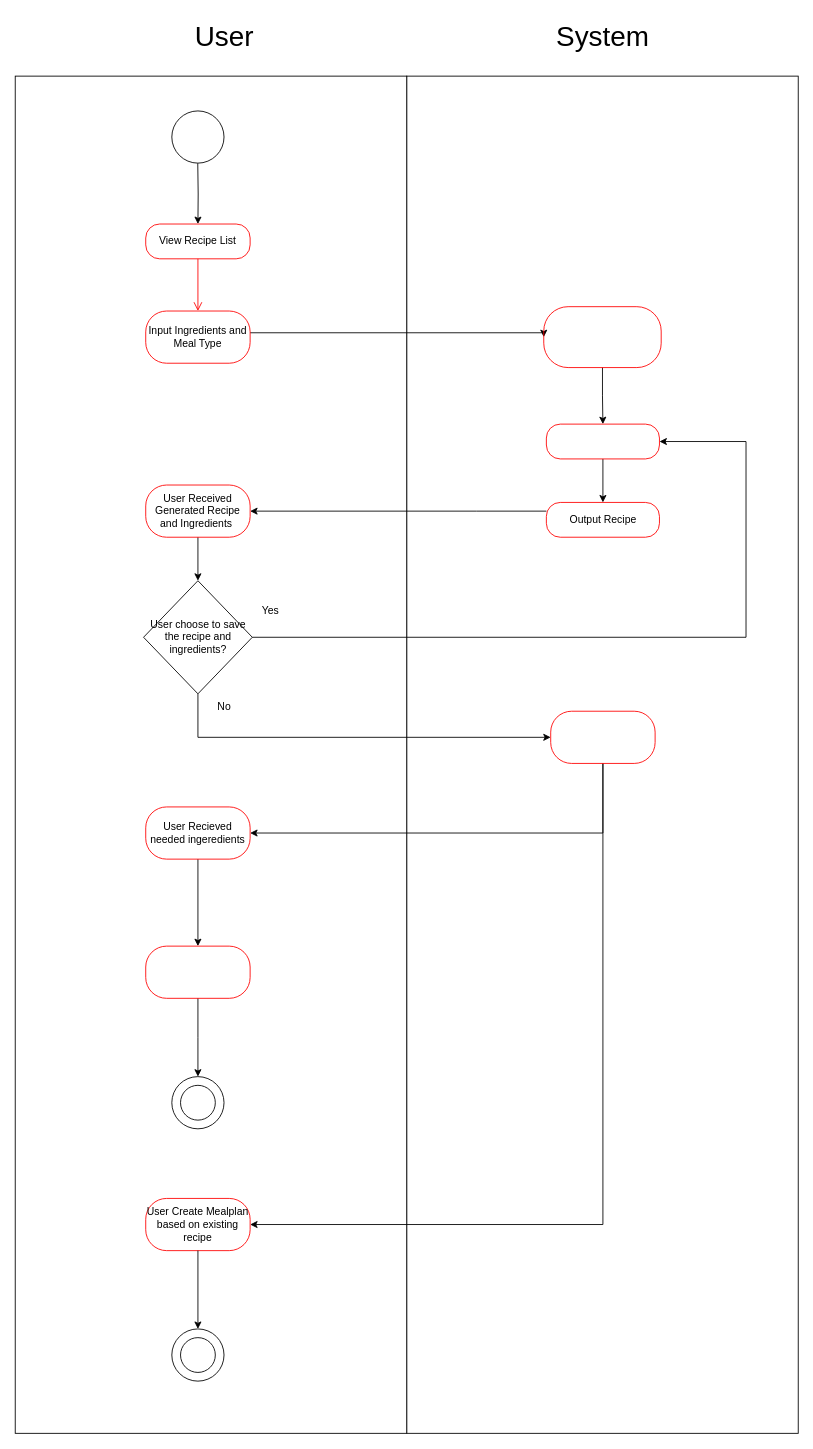
Some shapes in this 813 by 1449 pixel diagram are drawn without their labels. Here are the shapes that lost their labels. From the top down, the centre of each, then its label:
pixel 602 337: Receive Input Ingredients and Meal Type
pixel 602 441: Proceed Input with Systematic Prompt
pixel 602 736: Recipe and Ingredients save to the Database
pixel 197 971: User Modified existing ingredients
